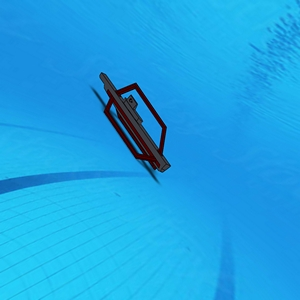submarine: (99, 65, 171, 175)
